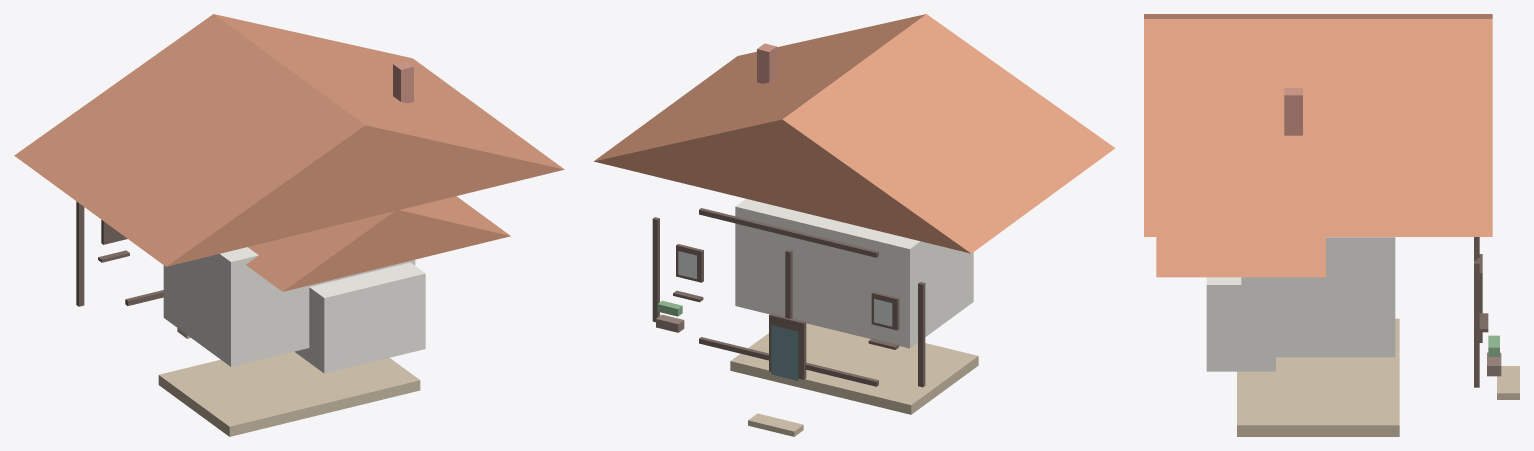
File: ravnbro-depot.glb
3 renders of one model, left to right at view 1: azimuth 30°, elevation 25°; view 2: azimuth 150°, elevation 25°; view 3: azimuth 270°, elevation 25°, orthographic. The views are drawn at different scales.
Visible parts, largest first — view 1: roof, plinth, body, wing_roof, wing, up_-1.29, chimney; view 2: roof, body, plinth, beam_1.75, door, beam_0.55, door_frame, up_-1.29, up_1.29, step, chimney, wf_-0.95 (+2 smaller); view 3: roof, body, plinth, wing_roof, wing, chimney, up_1.29, step.
Part boxes in pixels (<box>): roof: <box>14,14,564,266</box>; plinth: <box>158,351,420,436</box>; body: <box>163,247,415,366</box>; wing_roof: <box>246,196,510,291</box>; wing: <box>295,262,425,373</box>; up_-1.29: <box>76,201,84,306</box>; chimney: <box>393,61,413,103</box>; roof: <box>593,14,1115,253</box>; body: <box>735,199,973,348</box>; plinth: <box>730,323,978,414</box>; beam_1.75: <box>699,208,878,257</box>; door: <box>771,325,798,380</box>; beam_0.55: <box>699,337,878,386</box>; door_frame: <box>769,313,806,379</box>; up_-1.29: <box>918,282,925,387</box>; up_1.29: <box>652,217,659,322</box>; step: <box>748,413,803,436</box>; chimney: <box>757,43,776,83</box>; wf_-0.95: <box>871,291,899,330</box>; roof: <box>1144,14,1492,236</box>; body: <box>1241,237,1395,357</box>; plinth: <box>1237,318,1399,436</box>; wing_roof: <box>1156,237,1325,277</box>; wing: <box>1206,277,1275,371</box>; chimney: <box>1284,88,1302,135</box>; up_1.29: <box>1474,260,1479,387</box>; step: <box>1497,366,1519,399</box>.
Size of the model in its own units: 3.68 by 2.82 by 2.62.
